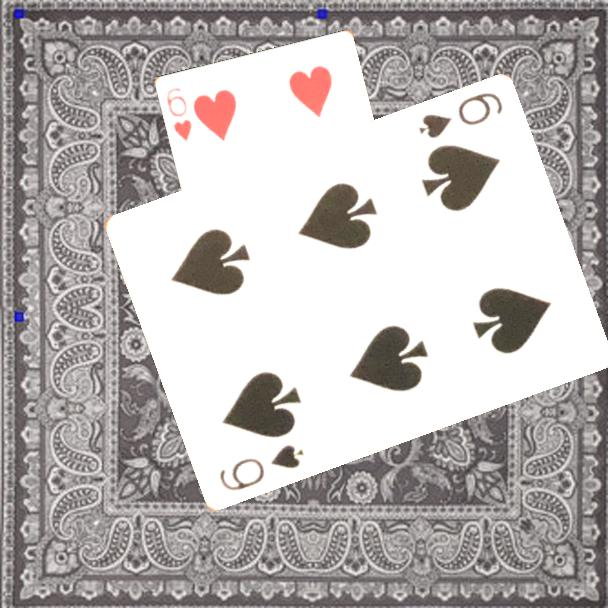h06: (163, 84, 194, 144)
s06: (215, 442, 306, 495), (415, 89, 506, 142)
